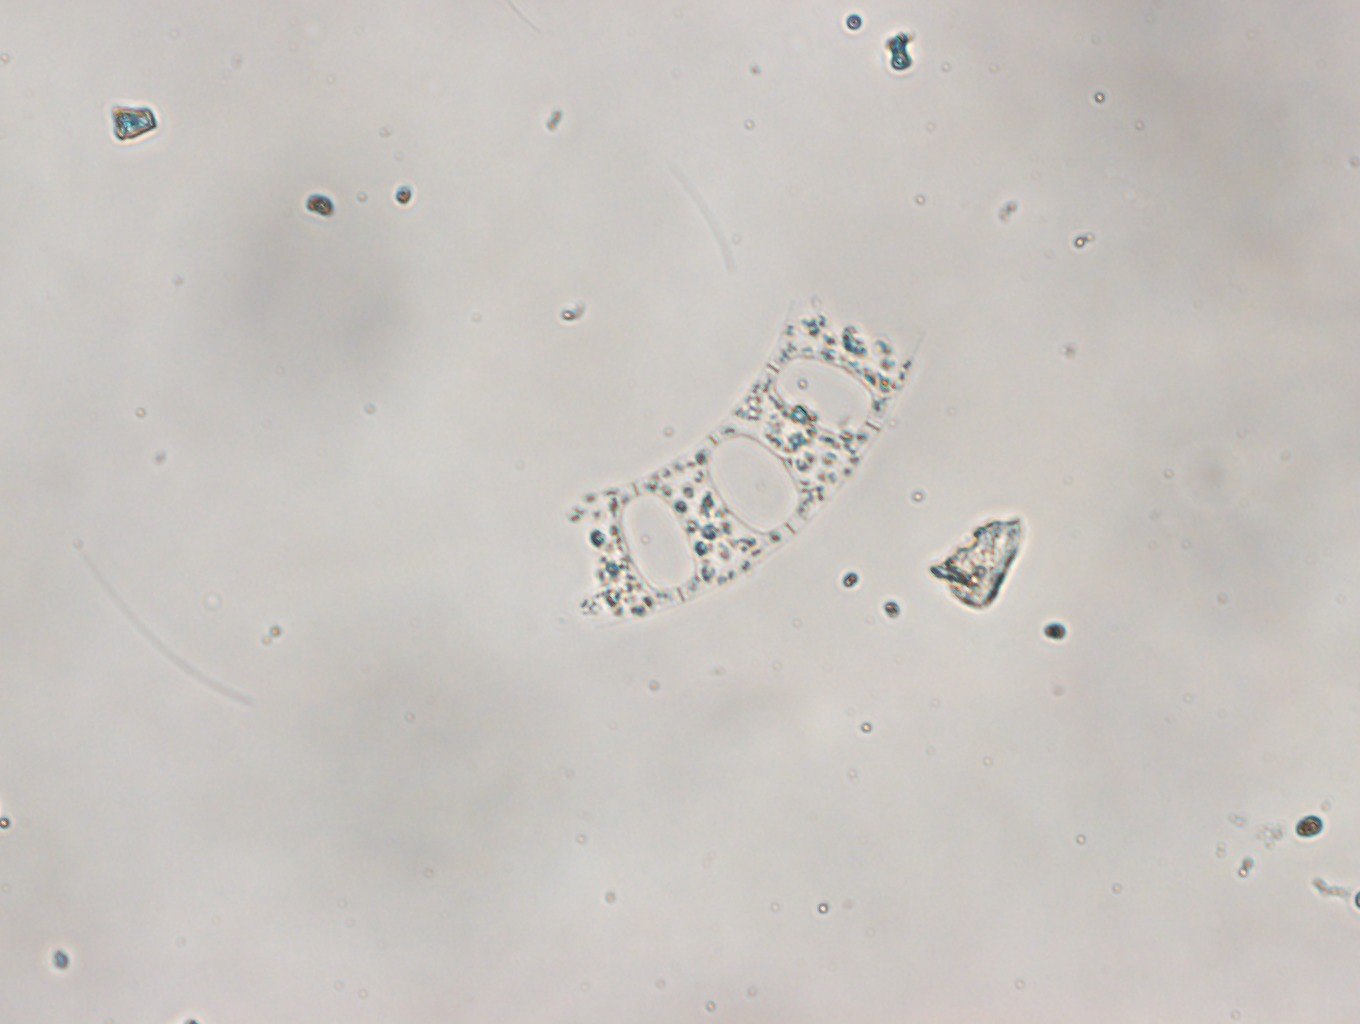eucampia: (561, 290, 928, 631)
